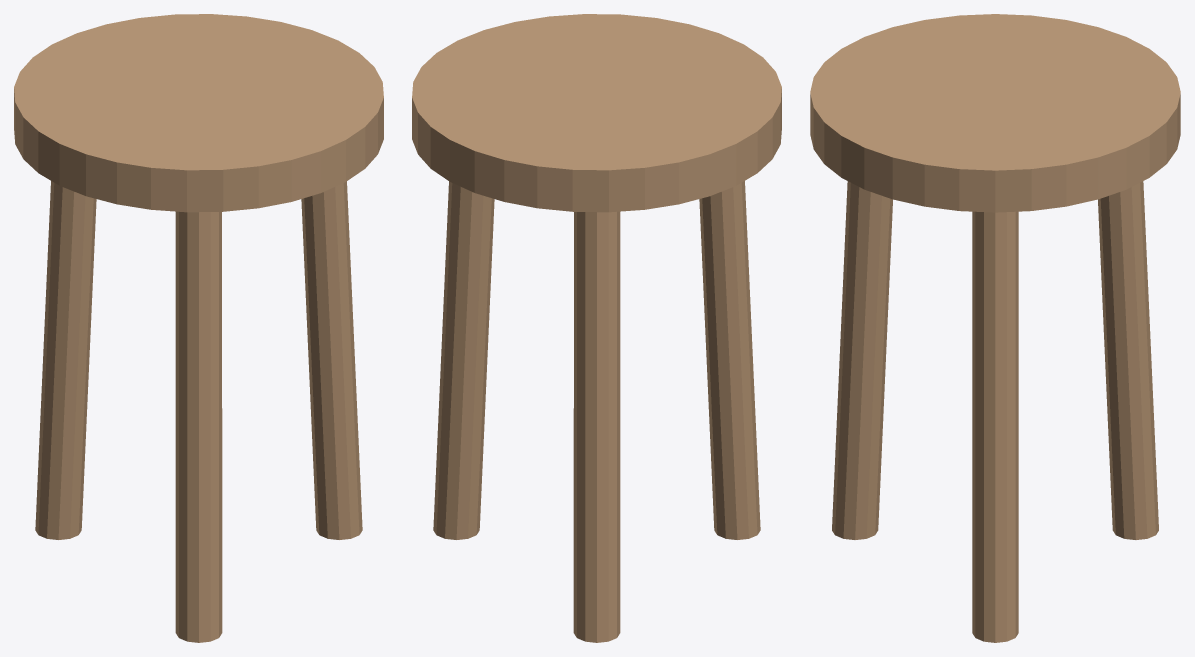
The model's file is three_leg_stool_v10_first_build.glb.
3 renders of one model, left to right at view 1: azimuth 30°, elevation 25°; view 2: azimuth 150°, elevation 25°; view 3: azimuth 270°, elevation 25°, orthographic.
Parts seen in each view (by area): view 1: Stool; view 2: Stool; view 3: Stool.
Part boxes in pixels (x1=…): Stool: x1=14, y1=14, x2=383, y2=642; Stool: x1=412, y1=14, x2=781, y2=642; Stool: x1=810, y1=14, x2=1180, y2=642.
Bounding box in the file's own units: 0.32 × 0.45 × 0.32.
